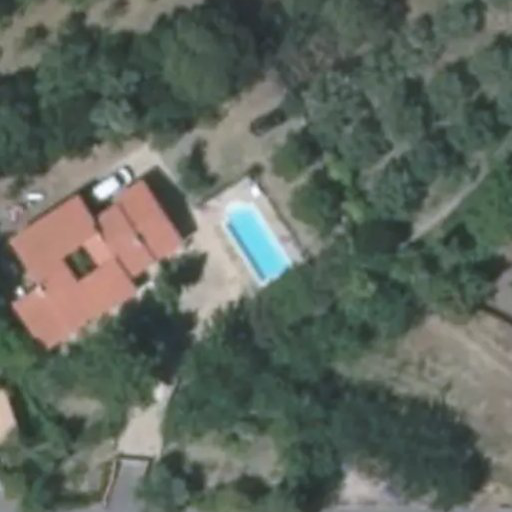pool: (217, 212, 288, 264)
